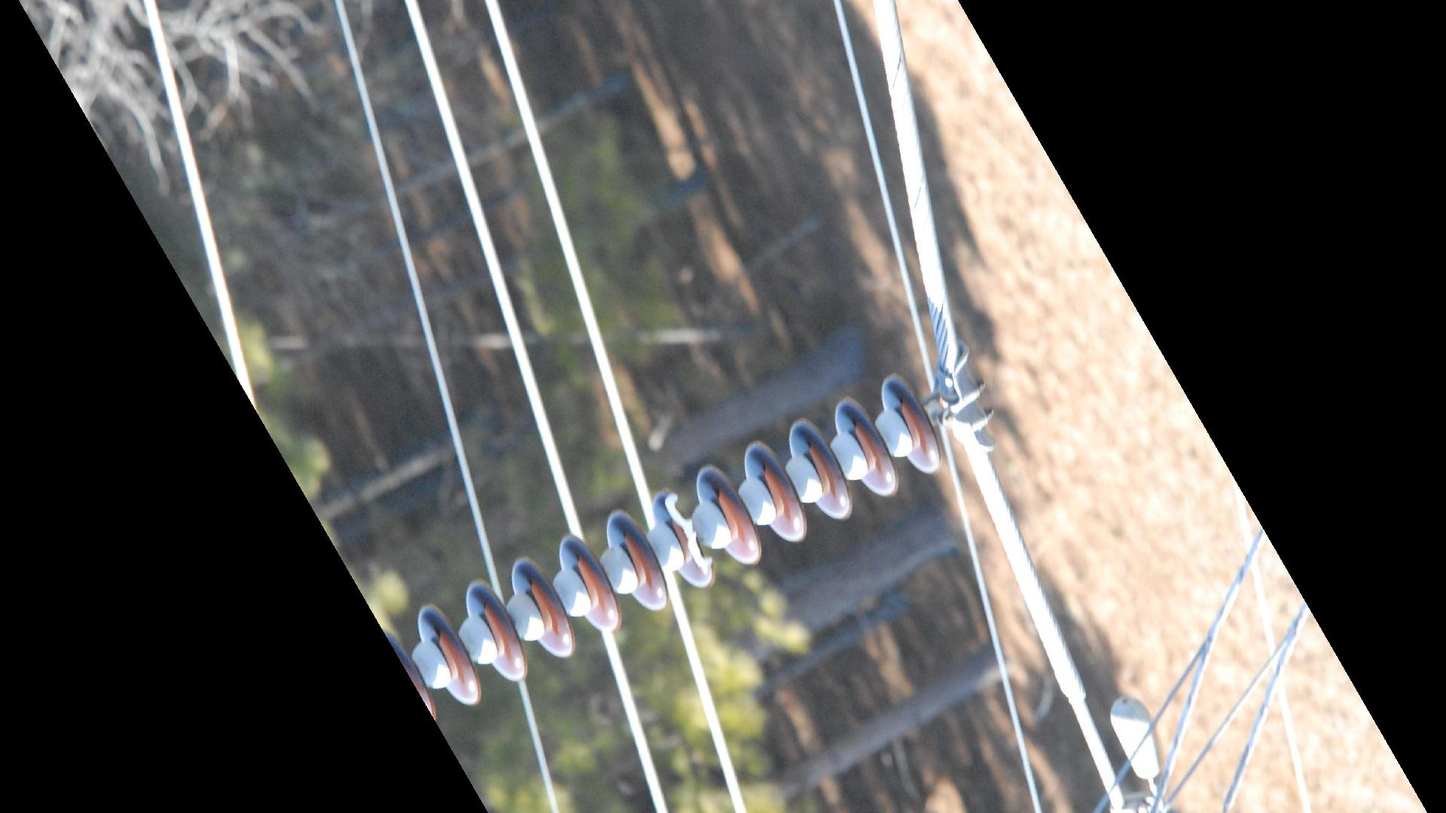insulator: (388, 367, 947, 714)
insulator_breakage: (654, 482, 719, 577)
